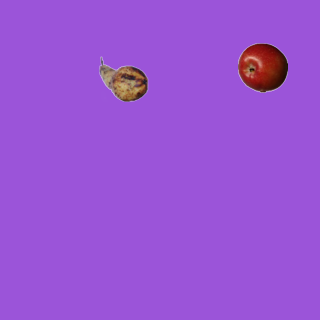Apple Braeburn: (237, 42, 287, 92)
Pear Abate: (98, 54, 148, 104)
